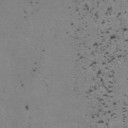oxide scale of temperature system: (76, 4, 128, 124), (74, 28, 80, 35), (122, 114, 126, 122), (32, 68, 38, 72), (25, 104, 29, 110)
